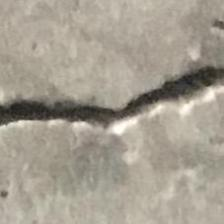Crack: (0, 61, 224, 144)
